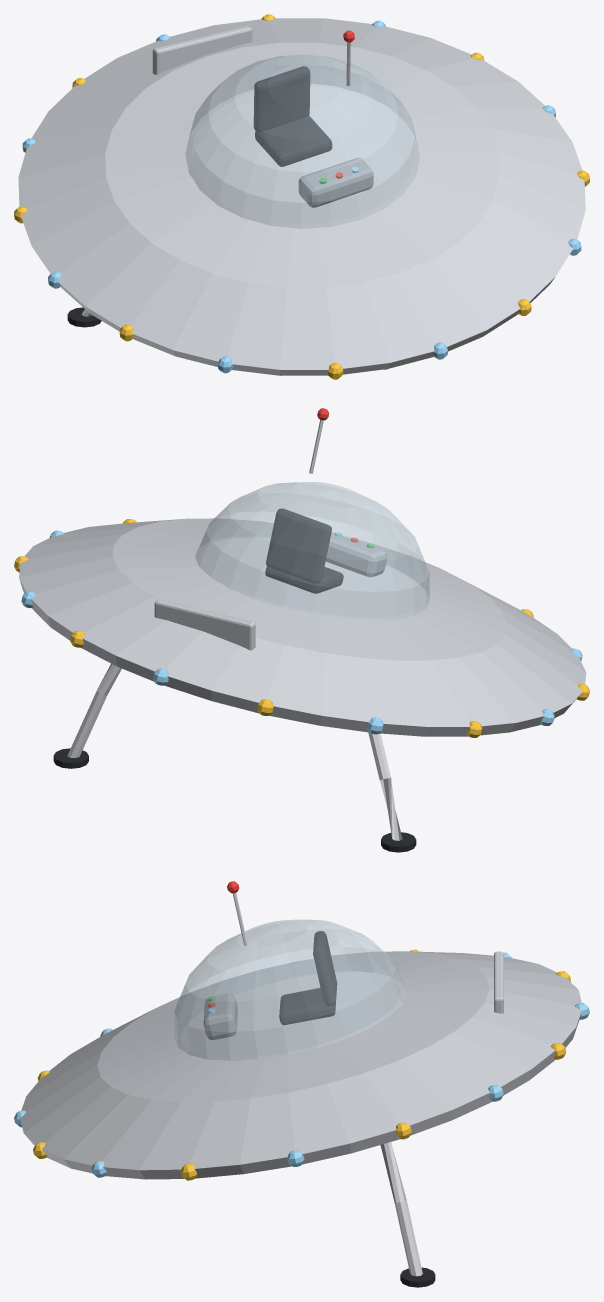
The model's file is B04_crashed_ufo_v3.glb.
3 renders of one model, top to bottom at view 1: azimuth 30°, elevation 25°; view 2: azimuth 150°, elevation 25°; view 3: azimuth 270°, elevation 25°, orthographic.
Visible parts, largest first — view 1: Body, Glass, Static, Trunk; view 2: Body, Glass, Static, Trunk; view 3: Body, Glass, Static, Trunk.
Boxes of the visible parts, x1,y1,x2,y2 form: Body: (18, 18, 585, 375); Glass: (185, 54, 419, 228); Static: (14, 14, 589, 379); Trunk: (152, 26, 252, 74); Body: (19, 518, 586, 736); Glass: (195, 481, 429, 620); Static: (14, 408, 589, 852); Trunk: (154, 599, 255, 650); Body: (20, 951, 581, 1179); Glass: (174, 919, 406, 1060); Static: (14, 881, 589, 1287); Trunk: (494, 951, 503, 1013).
Size of what is drawn, in the model's own units: 4.67 by 2.85 by 4.6.
3 materials, 1 textured.
